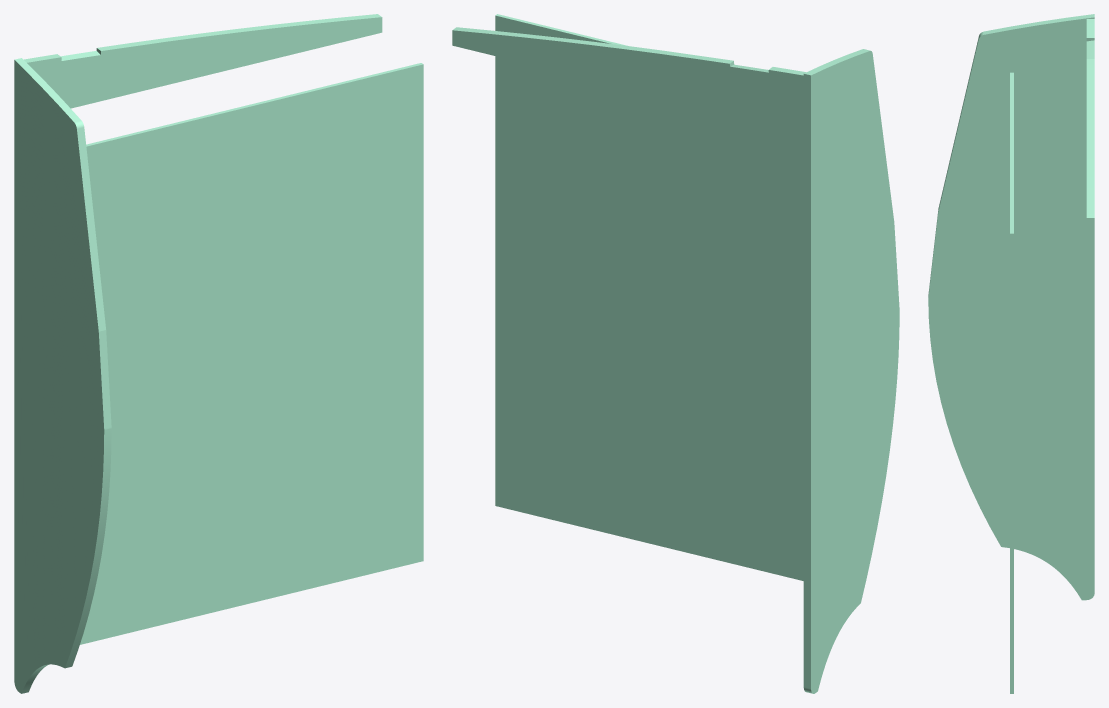
The model's file is OUTFITTING_INTERIOR__galley, workbench, shelving, etc.__CABINETS__WM CABINET__36_ long version approx_ summer 2025.glb.
3 renders of one model, left to right at view 1: azimuth 30°, elevation 25°; view 2: azimuth 150°, elevation 25°; view 3: azimuth 270°, elevation 25°, orthographic. The views are drawn at different scales.
Visible parts, largest first — view 1: 36" long version approx/ summer 2025; view 2: 36" long version approx/ summer 2025; view 3: 36" long version approx/ summer 2025.
Boxes of the visible parts, x1,y1,x2,y2 form: 36" long version approx/ summer 2025: [14, 14, 423, 693]; 36" long version approx/ summer 2025: [452, 14, 899, 693]; 36" long version approx/ summer 2025: [928, 14, 1094, 693].
Size of the model in its own units: 0.9334 by 1.54 by 0.3995.
